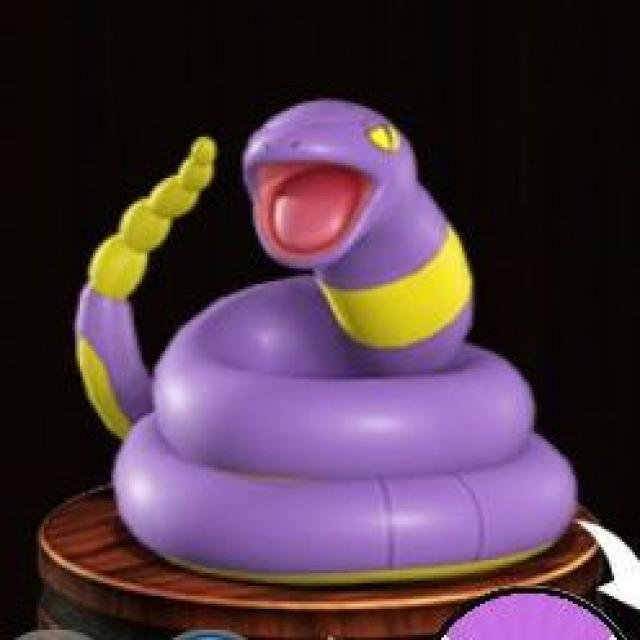Ekans: (89, 94, 563, 567)
